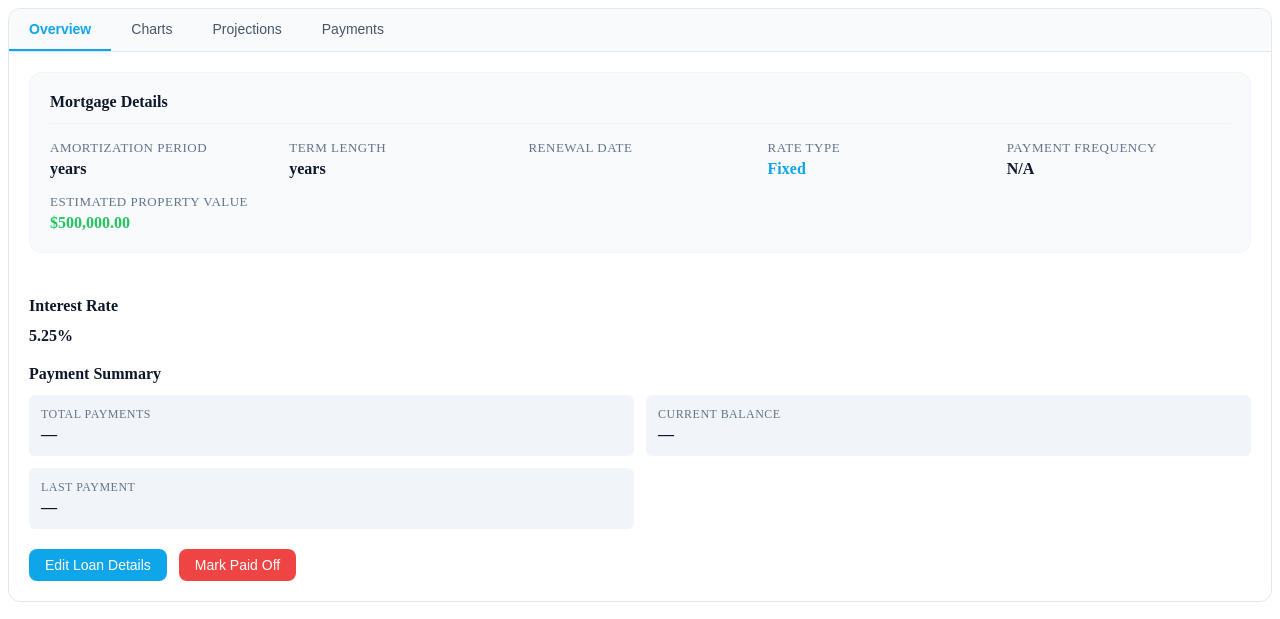
Test: MortgageTabbedContent › Projections tab shows insufficient data message when hasBalanceData is false
Click the tab "Projections". click: (247, 30)
box: [192,9,302,51]
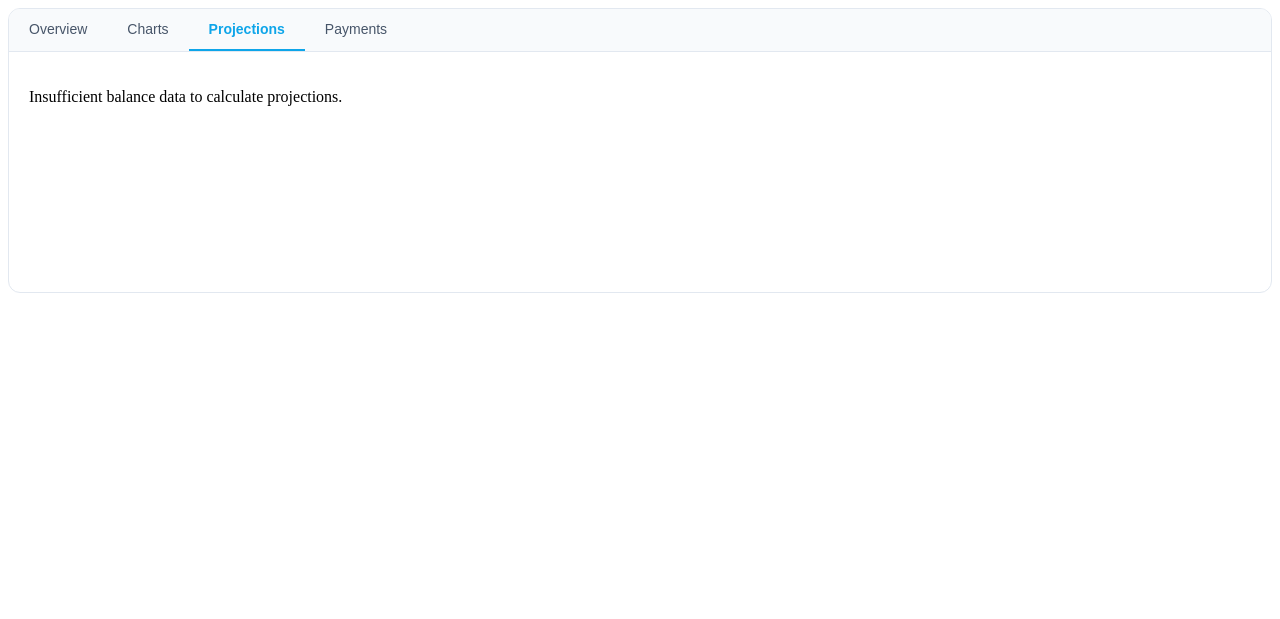
Result: the text "Insufficient balance data to calculate projections." is shown at [29,88,342,105]
